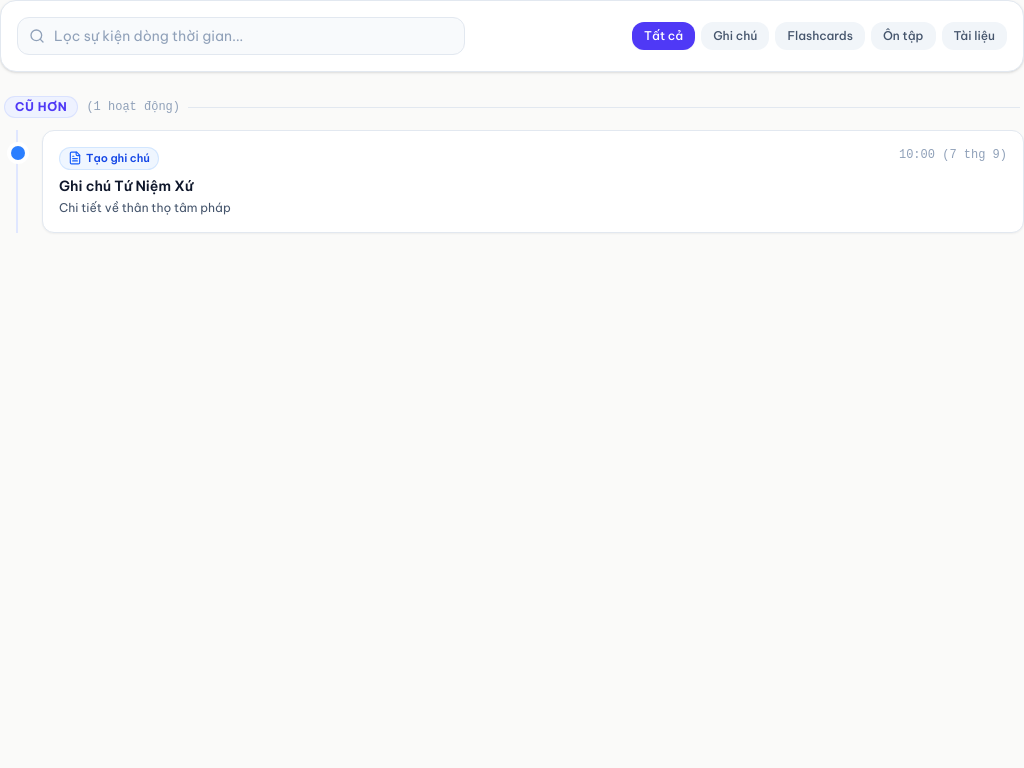
Scenario: ResearchTimeline Component › opens and closes detail preview modal on event click
The image size is (1024, 768).
Click the heading "Ghi chú Tứ Niệm Xứ" at (126,186), box [59,176,193,194]
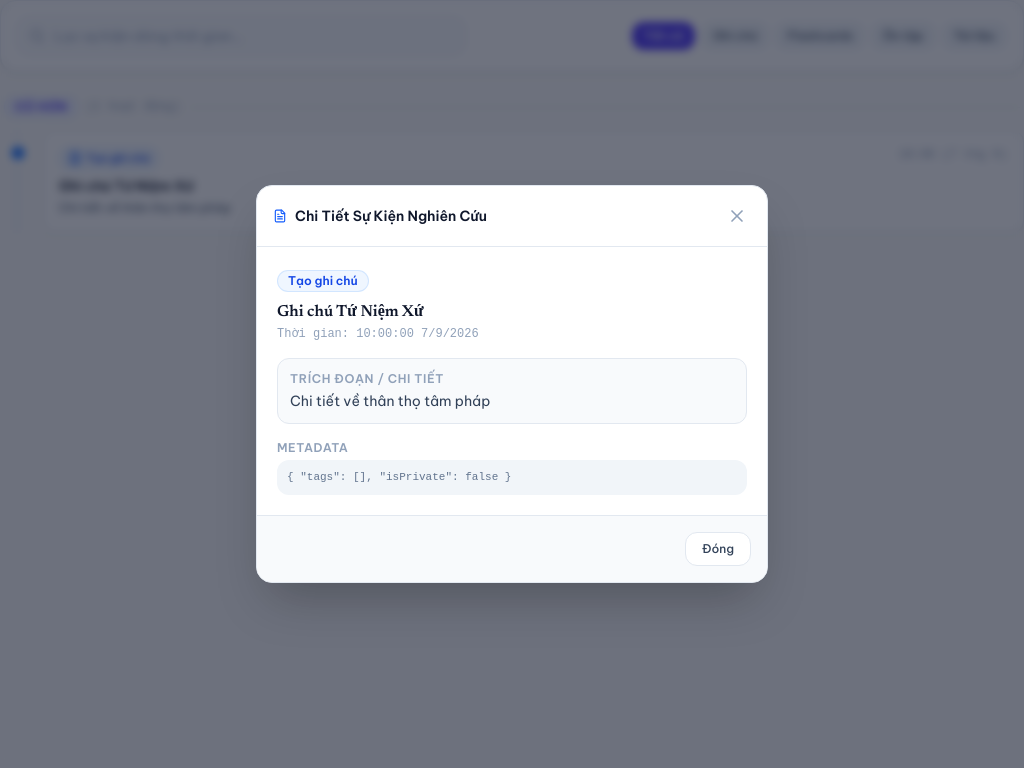
Now the element with test id "timeline-preview-modal" is shown
Now the text "Chi Tiết Sự Kiện Nghiên Cứu" is shown, box [295,206,487,226]
Click the button with test id "close-preview-modal" at (737,216), box [723,202,751,230]
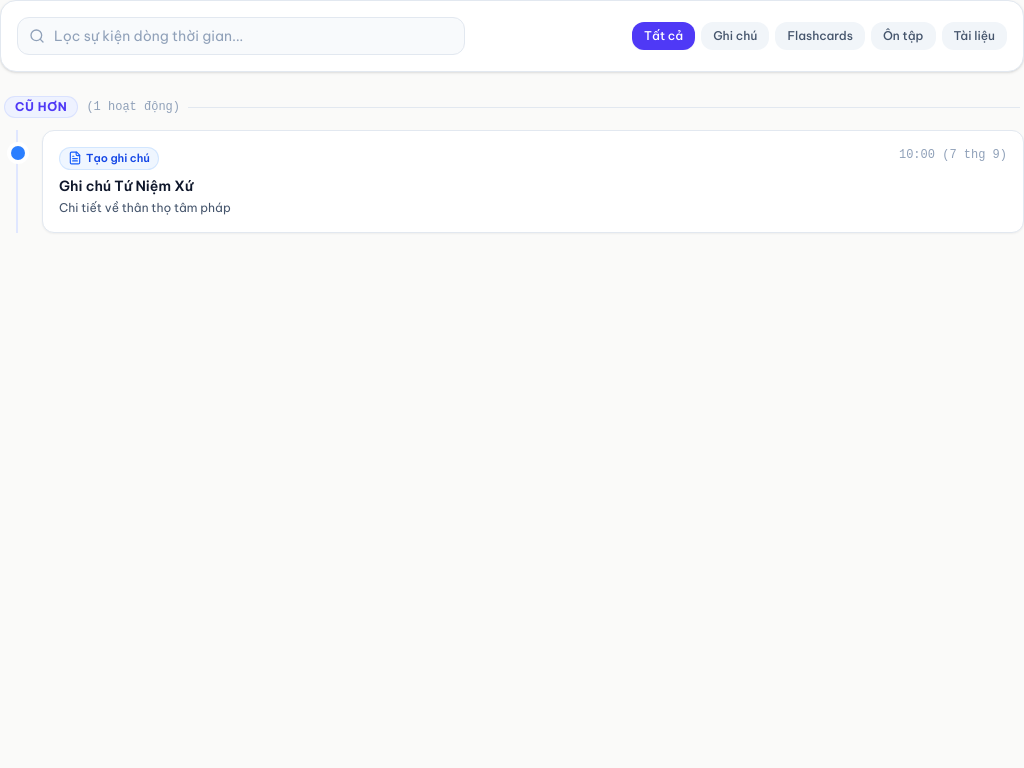
Now the element with test id "timeline-preview-modal" is gone
